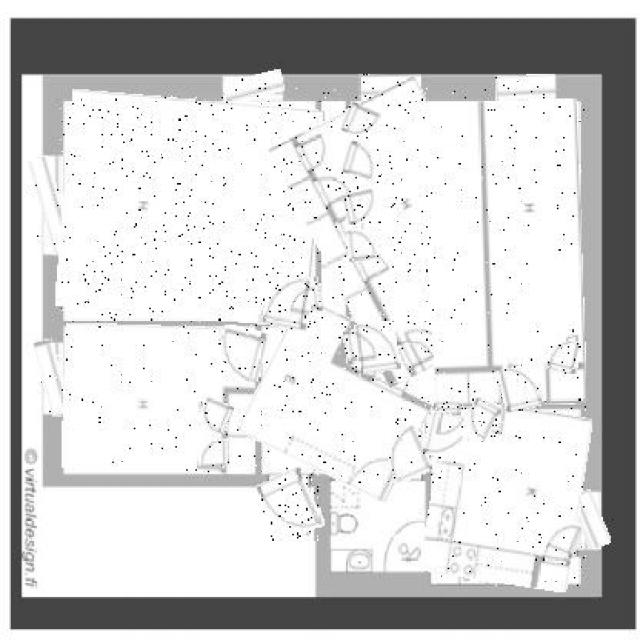door: (295, 88, 511, 377), (60, 96, 322, 322), (429, 100, 585, 408), (250, 310, 438, 488), (426, 403, 586, 588), (63, 325, 257, 472)
window: (262, 471, 320, 540), (382, 424, 429, 482), (265, 274, 312, 329), (217, 328, 266, 380), (356, 321, 398, 374), (425, 414, 469, 460), (500, 364, 540, 410), (462, 398, 498, 444), (549, 518, 583, 557), (343, 142, 379, 178), (342, 105, 378, 138), (292, 278, 323, 316), (344, 329, 378, 363), (548, 338, 580, 374), (198, 398, 231, 431), (345, 190, 377, 224), (348, 230, 377, 262), (435, 402, 460, 438), (198, 440, 230, 466)
zone: (35, 157, 68, 255), (39, 338, 66, 417), (574, 489, 606, 549), (223, 74, 285, 101), (496, 75, 556, 100), (358, 74, 420, 98)
